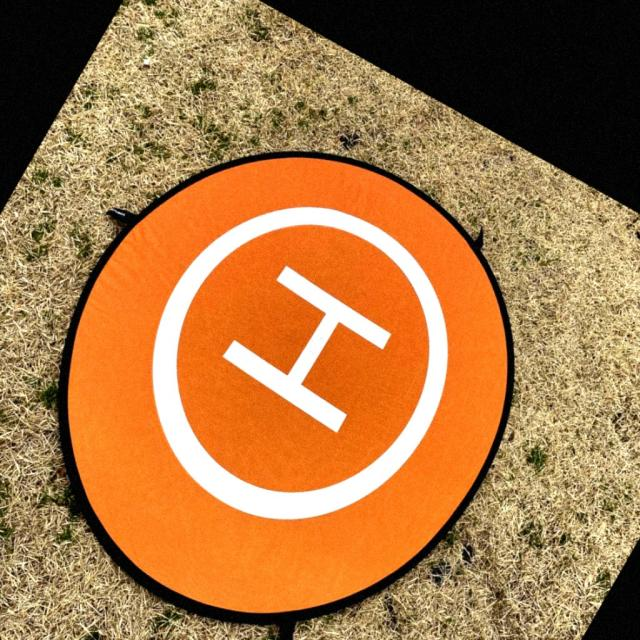helipad: (144, 200, 454, 528)
